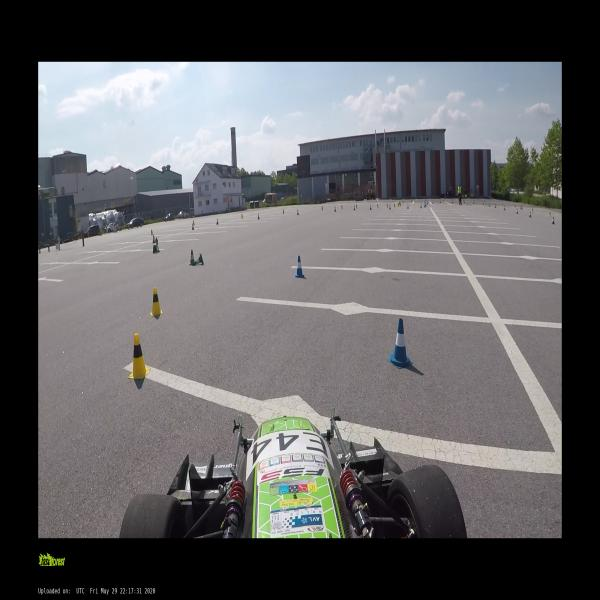blue_cone: (390, 318, 410, 366), (295, 256, 304, 277), (194, 253, 204, 265), (190, 250, 195, 264), (153, 245, 160, 252), (551, 217, 555, 225), (154, 237, 158, 242), (153, 235, 155, 243), (192, 223, 194, 230), (216, 218, 218, 224), (157, 242, 158, 252), (258, 214, 260, 219), (193, 220, 194, 226)
yellow_cone: (128, 334, 150, 380), (148, 287, 163, 318), (150, 228, 153, 236), (241, 213, 243, 219)
